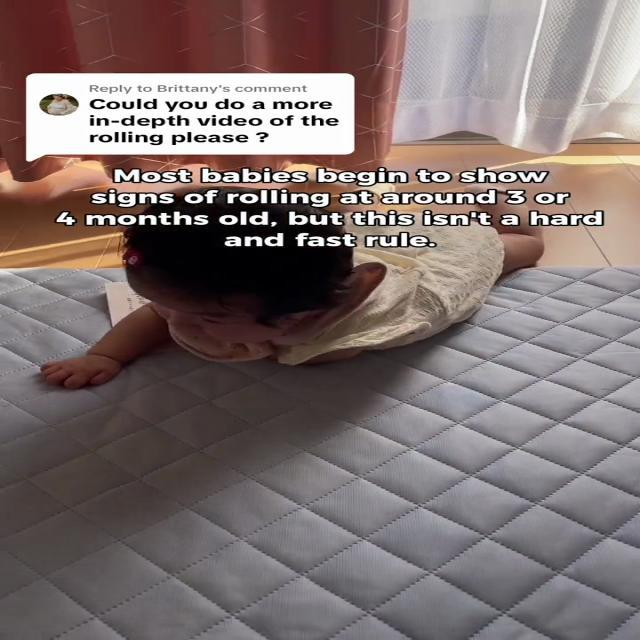baby: (39, 180, 576, 396)
